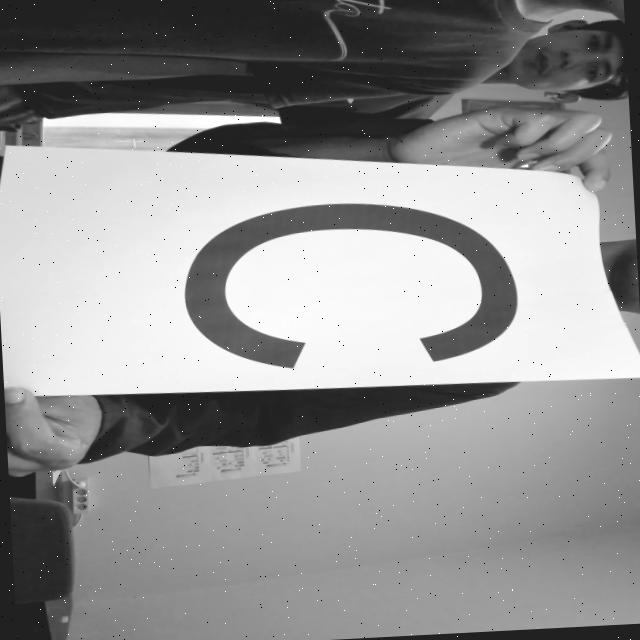c: (160, 189, 534, 380)
